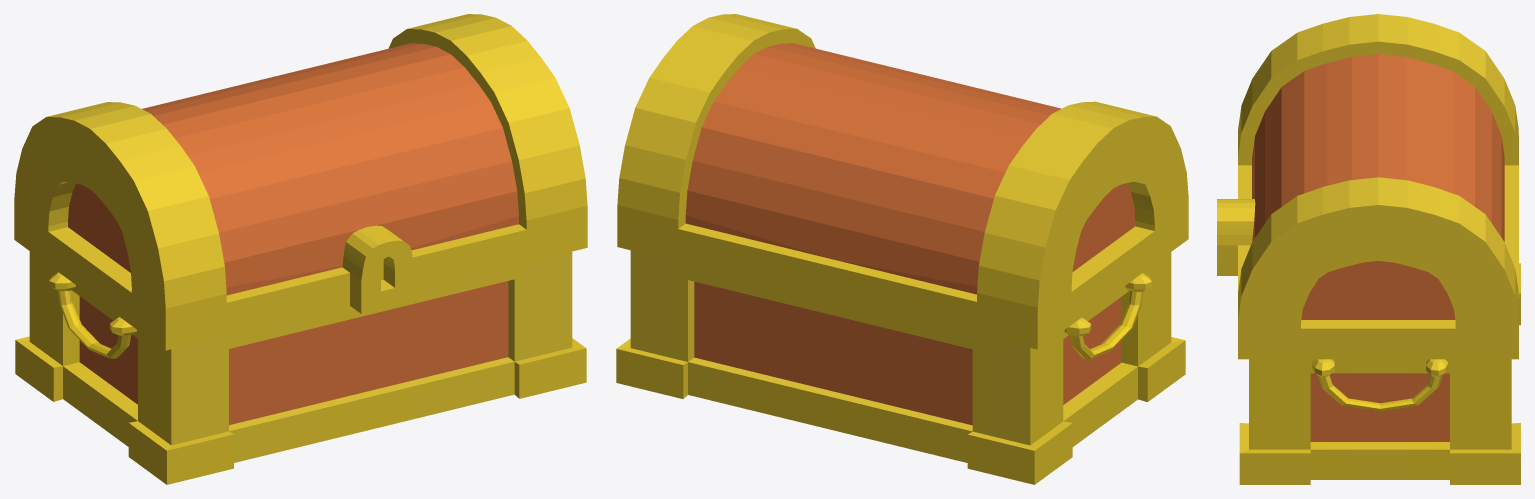
File: Safe Chest 4.fbx
The picture shows the model from 3 angles, left to right: view 1: azimuth 30°, elevation 25°; view 2: azimuth 150°, elevation 25°; view 3: azimuth 270°, elevation 25°; orthographic projection. The views are drawn at different scales.
Parts seen in each view (by area): view 1: Safe Chest 4; view 2: Safe Chest 4; view 3: Safe Chest 4.
Part boxes in pixels (x1,y1,x2,y2): Safe Chest 4: [14, 14, 587, 484]; Safe Chest 4: [616, 14, 1188, 484]; Safe Chest 4: [1217, 14, 1520, 484].
Bounding box in the file's own units: 107 × 70.12 × 68.94.
